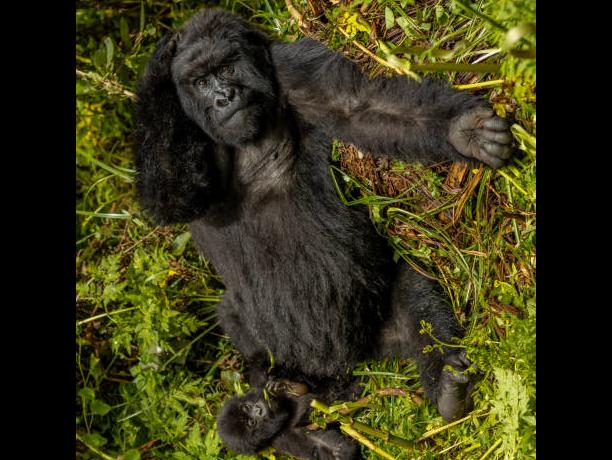goriile_montagne: (87, 0, 521, 393), (187, 364, 367, 460)
